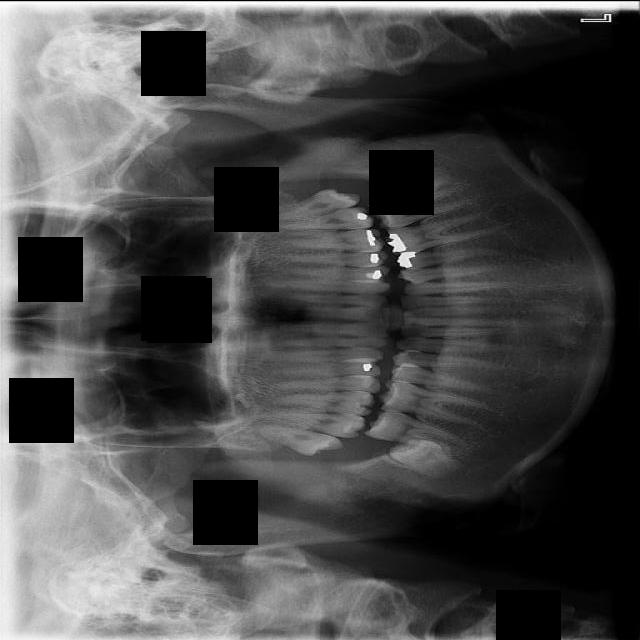3M ESPE Implant: (246, 418, 344, 460)
52: (385, 223, 429, 255), (344, 224, 386, 256), (333, 203, 375, 232), (348, 246, 391, 269), (340, 355, 381, 378), (349, 262, 391, 283), (396, 250, 436, 269)
73: (568, 52, 586, 60)
BioHorizons Implant: (281, 204, 375, 236)
BioLife Implant: (266, 182, 362, 222)
Biomet 3i Implant: (367, 160, 456, 208)
Blue Sky Bio Implant: (367, 186, 465, 233)
Caries: (258, 411, 369, 439)
Implant: (365, 403, 462, 457)
Keystone Dental Implant: (385, 426, 465, 486)
